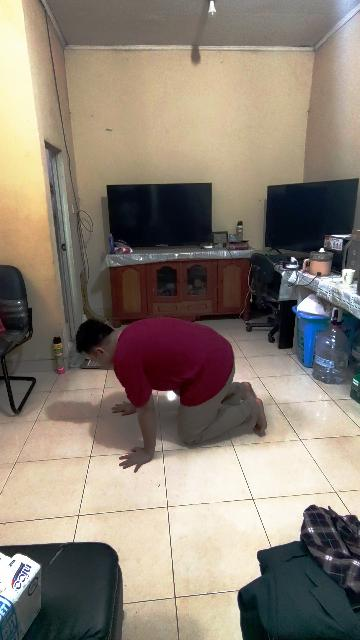jatuh: (71, 314, 268, 470)
